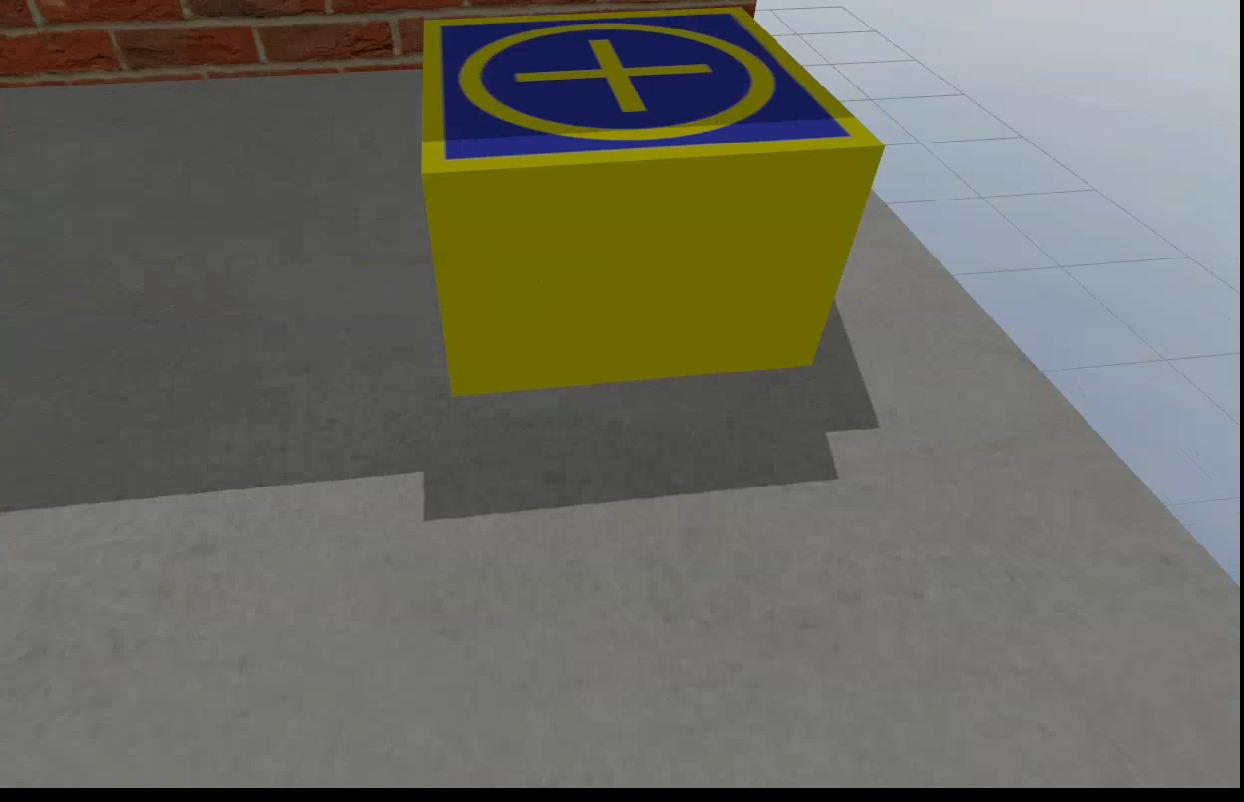small_base: (420, 14, 890, 183)
